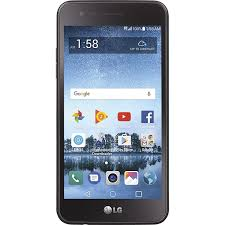lg: (53, 1, 173, 223)
